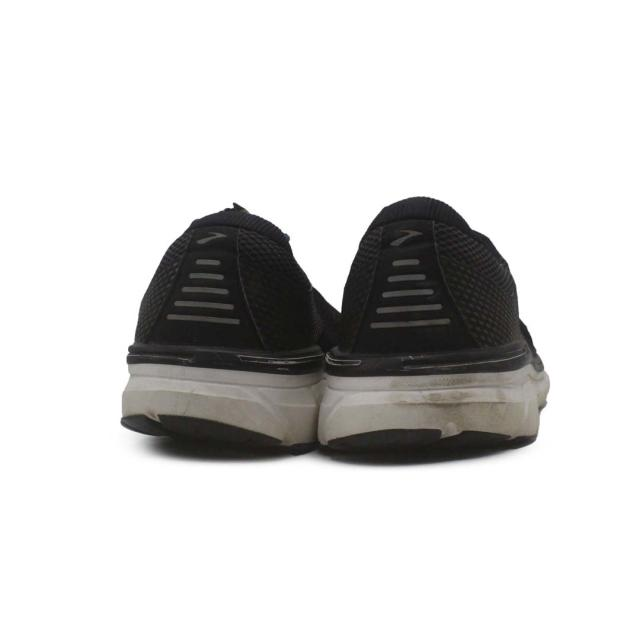heel: (335, 198, 519, 358), (134, 206, 328, 356)
midsole: (318, 352, 547, 448), (121, 352, 320, 457)
